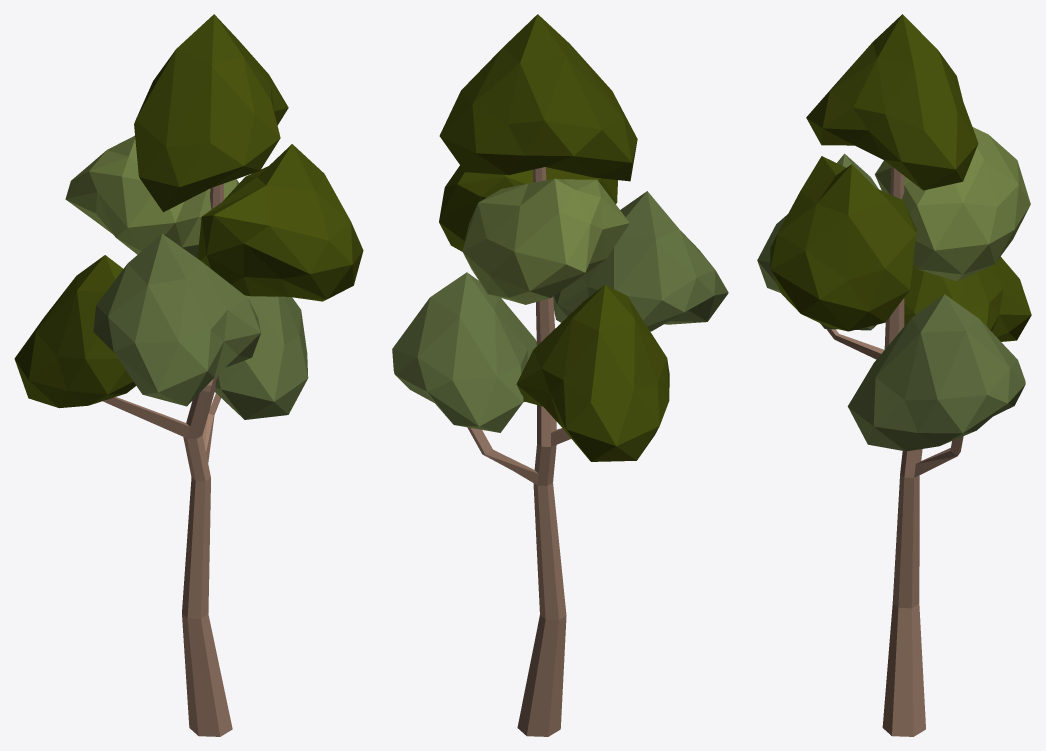
Rendered from tree_0404.dae.
3 renders of one model, left to right at view 1: azimuth 30°, elevation 25°; view 2: azimuth 150°, elevation 25°; view 3: azimuth 270°, elevation 25°, orthographic.
Visible parts, largest first — view 1: tree_0404; view 2: tree_0404; view 3: tree_0404.
Part boxes in pixels (x1=…): tree_0404: x1=14, y1=14, x2=363, y2=736; tree_0404: x1=392, y1=14, x2=728, y2=736; tree_0404: x1=757, y1=14, x2=1031, y2=736.
Bounding box in the file's own units: 2.49 × 2.21 × 6.35.
